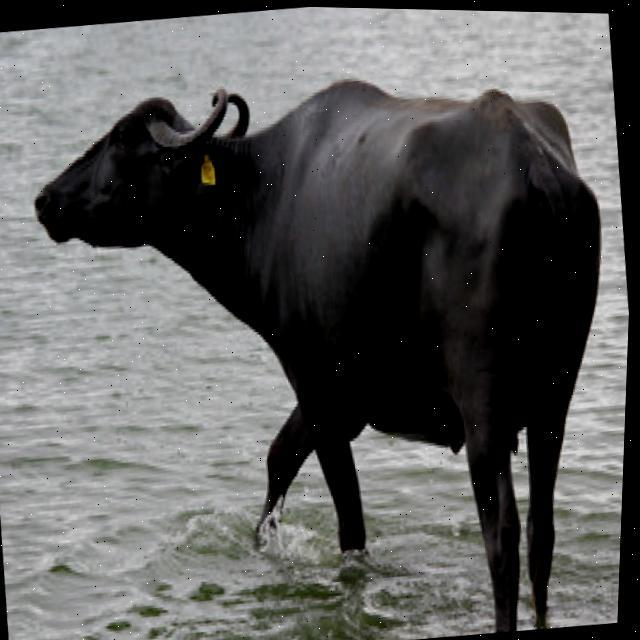Buffalo: (2, 35, 639, 640)
